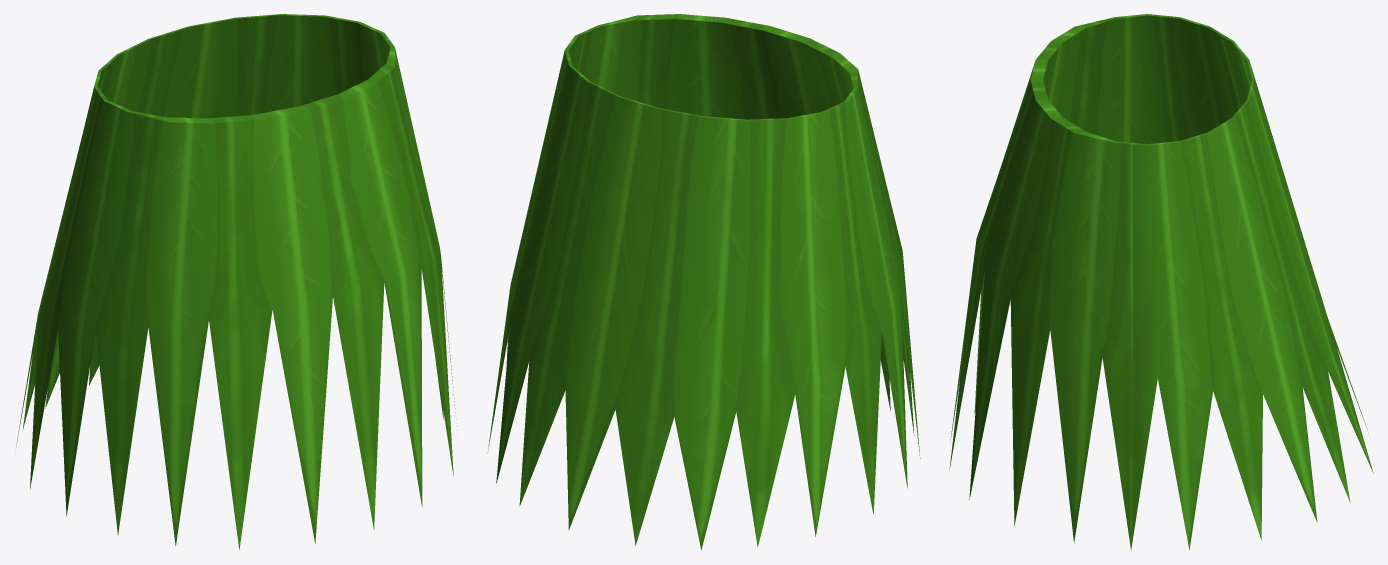
Rendered from skirtMesh.fbx.
The picture shows the model from 3 angles, left to right: view 1: azimuth 30°, elevation 25°; view 2: azimuth 150°, elevation 25°; view 3: azimuth 270°, elevation 25°; orthographic projection. The views are drawn at different scales.
Parts seen in each view (by area): view 1: GliHum_v18:tiki_warrior_v03_freeClothes:skirt; view 2: GliHum_v18:tiki_warrior_v03_freeClothes:skirt; view 3: GliHum_v18:tiki_warrior_v03_freeClothes:skirt.
Boxes of the visible parts, left/top/right/bottom form: GliHum_v18:tiki_warrior_v03_freeClothes:skirt: left=15, top=14, right=457, bottom=549; GliHum_v18:tiki_warrior_v03_freeClothes:skirt: left=487, top=14, right=920, bottom=549; GliHum_v18:tiki_warrior_v03_freeClothes:skirt: left=949, top=14, right=1373, bottom=550.
Size of the model in its own units: 4.13 by 4.08 by 4.13.
